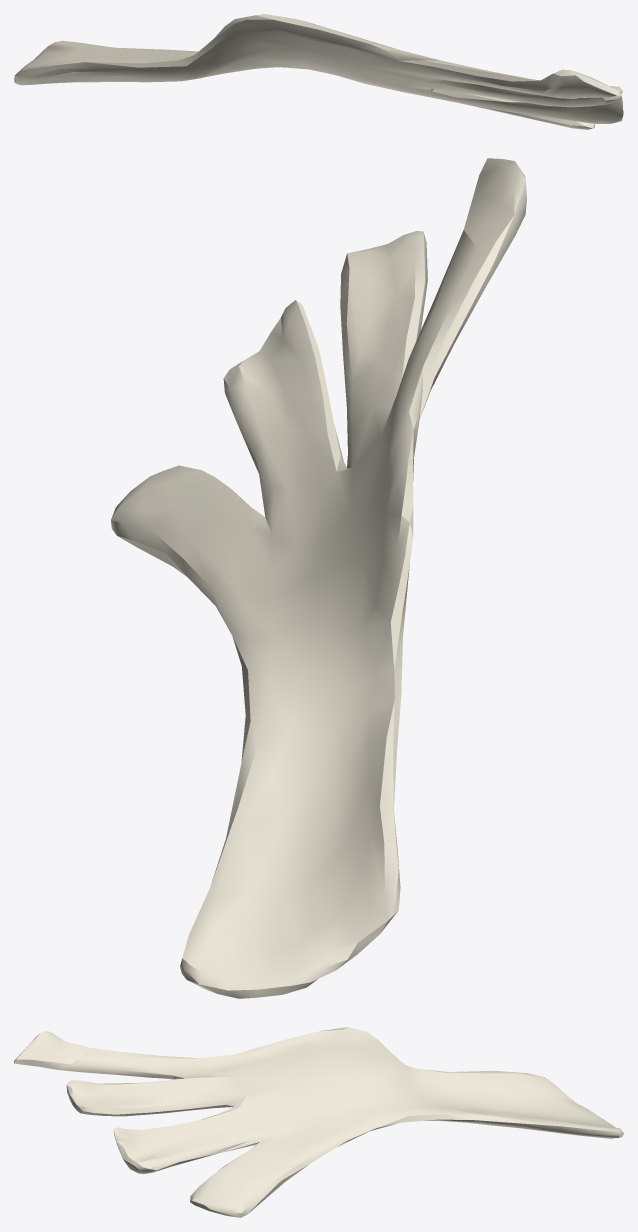
File: fma44250_mm1381.glb
3 renders of one model, top to bottom at view 1: azimuth 30°, elevation 25°; view 2: azimuth 150°, elevation 25°; view 3: azimuth 270°, elevation 25°, orthographic. The views are drawn at different scales.
Visible parts, largest first — view 1: FMA44250_MM1381; view 2: FMA44250_MM1381; view 3: FMA44250_MM1381.
Boxes of the visible parts, x1,y1,x2,y2 form: FMA44250_MM1381: (14, 14, 623, 129); FMA44250_MM1381: (111, 158, 526, 998); FMA44250_MM1381: (14, 1027, 623, 1217).
Bounding box in the file's own units: 0.0513 × 0.0286 × 0.0908.
